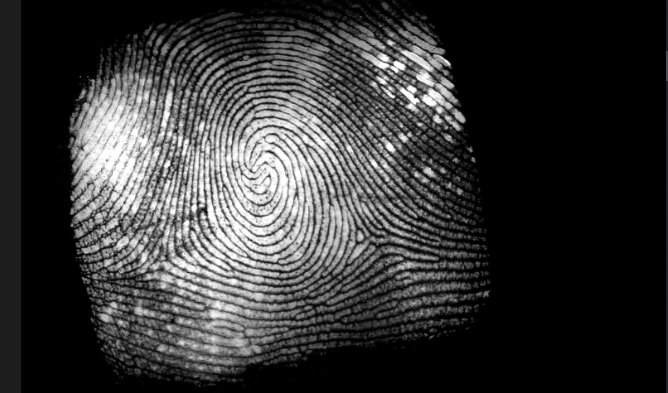nucelo: (242, 148, 284, 204)
verticilo: (142, 247, 184, 277), (353, 217, 384, 248)
